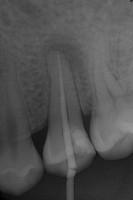Furcation Involvement: (42, 32, 88, 90)
